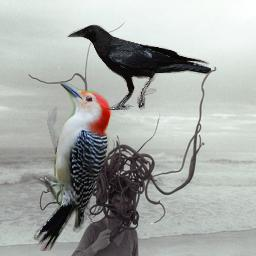Crow: (67, 23, 211, 110)
Woodpecker: (32, 81, 112, 251)
